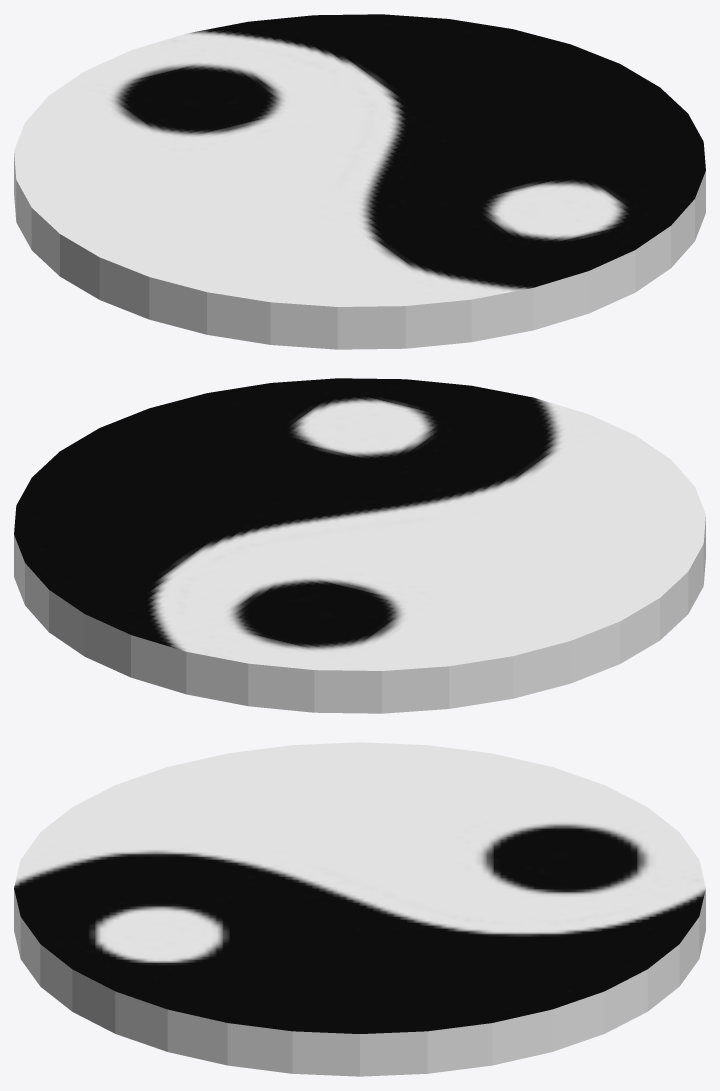
File: yinyang.fbx
3 views of the same model, one above another, from view 1: azimuth 30°, elevation 25°; view 2: azimuth 150°, elevation 25°; view 3: azimuth 270°, elevation 25° (orthographic).
Parts seen in each view (by area): view 1: yingyang; view 2: yingyang; view 3: yingyang.
Part boxes in pixels (box(x1,y1,x2,y2)): yingyang: box(14, 14, 705, 349); yingyang: box(14, 378, 705, 713); yingyang: box(14, 742, 705, 1076).
Bounding box in the file's own units: 93.2 × 6.33 × 93.4.
